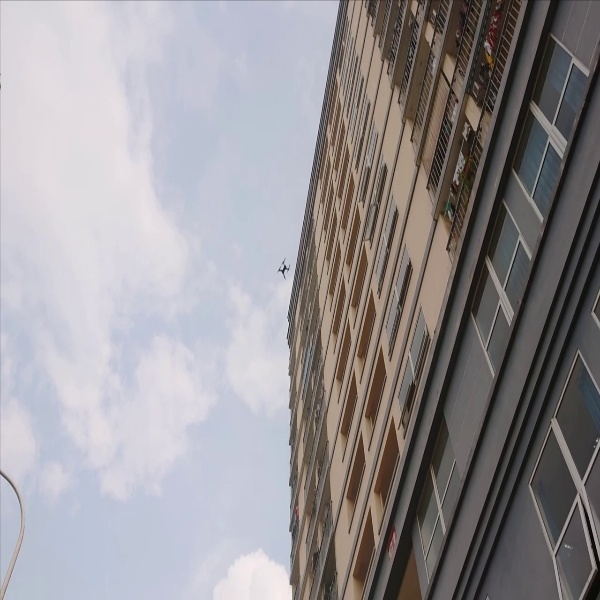drone: (272, 254, 295, 280)
